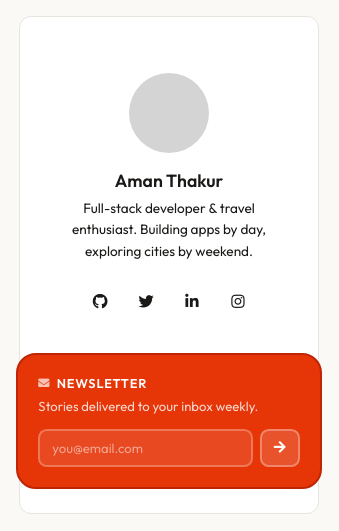
Test: SideBar › shows subscribed message after form submission
Type "test@test.com" into the field with placeholder "you@email.com". click: x=146, y=448
box: [38, 429, 253, 466]
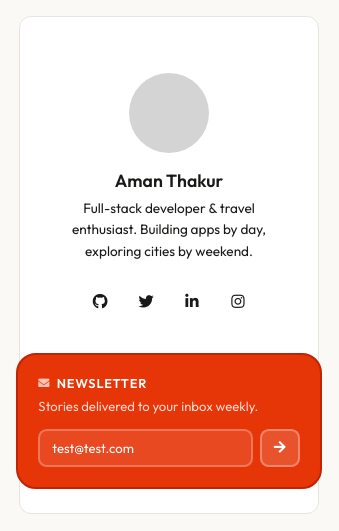
Click the button. click: x=280, y=448
box: [260, 429, 300, 466]
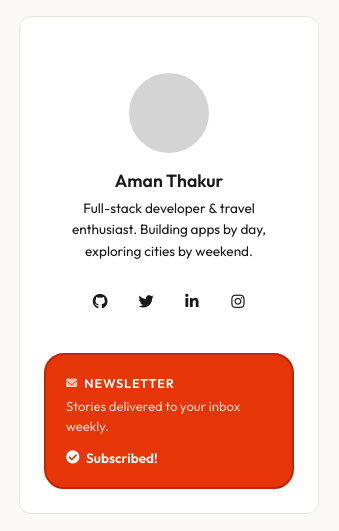
Expected: the text "Subscribed!" is shown, [66, 449, 158, 467]
